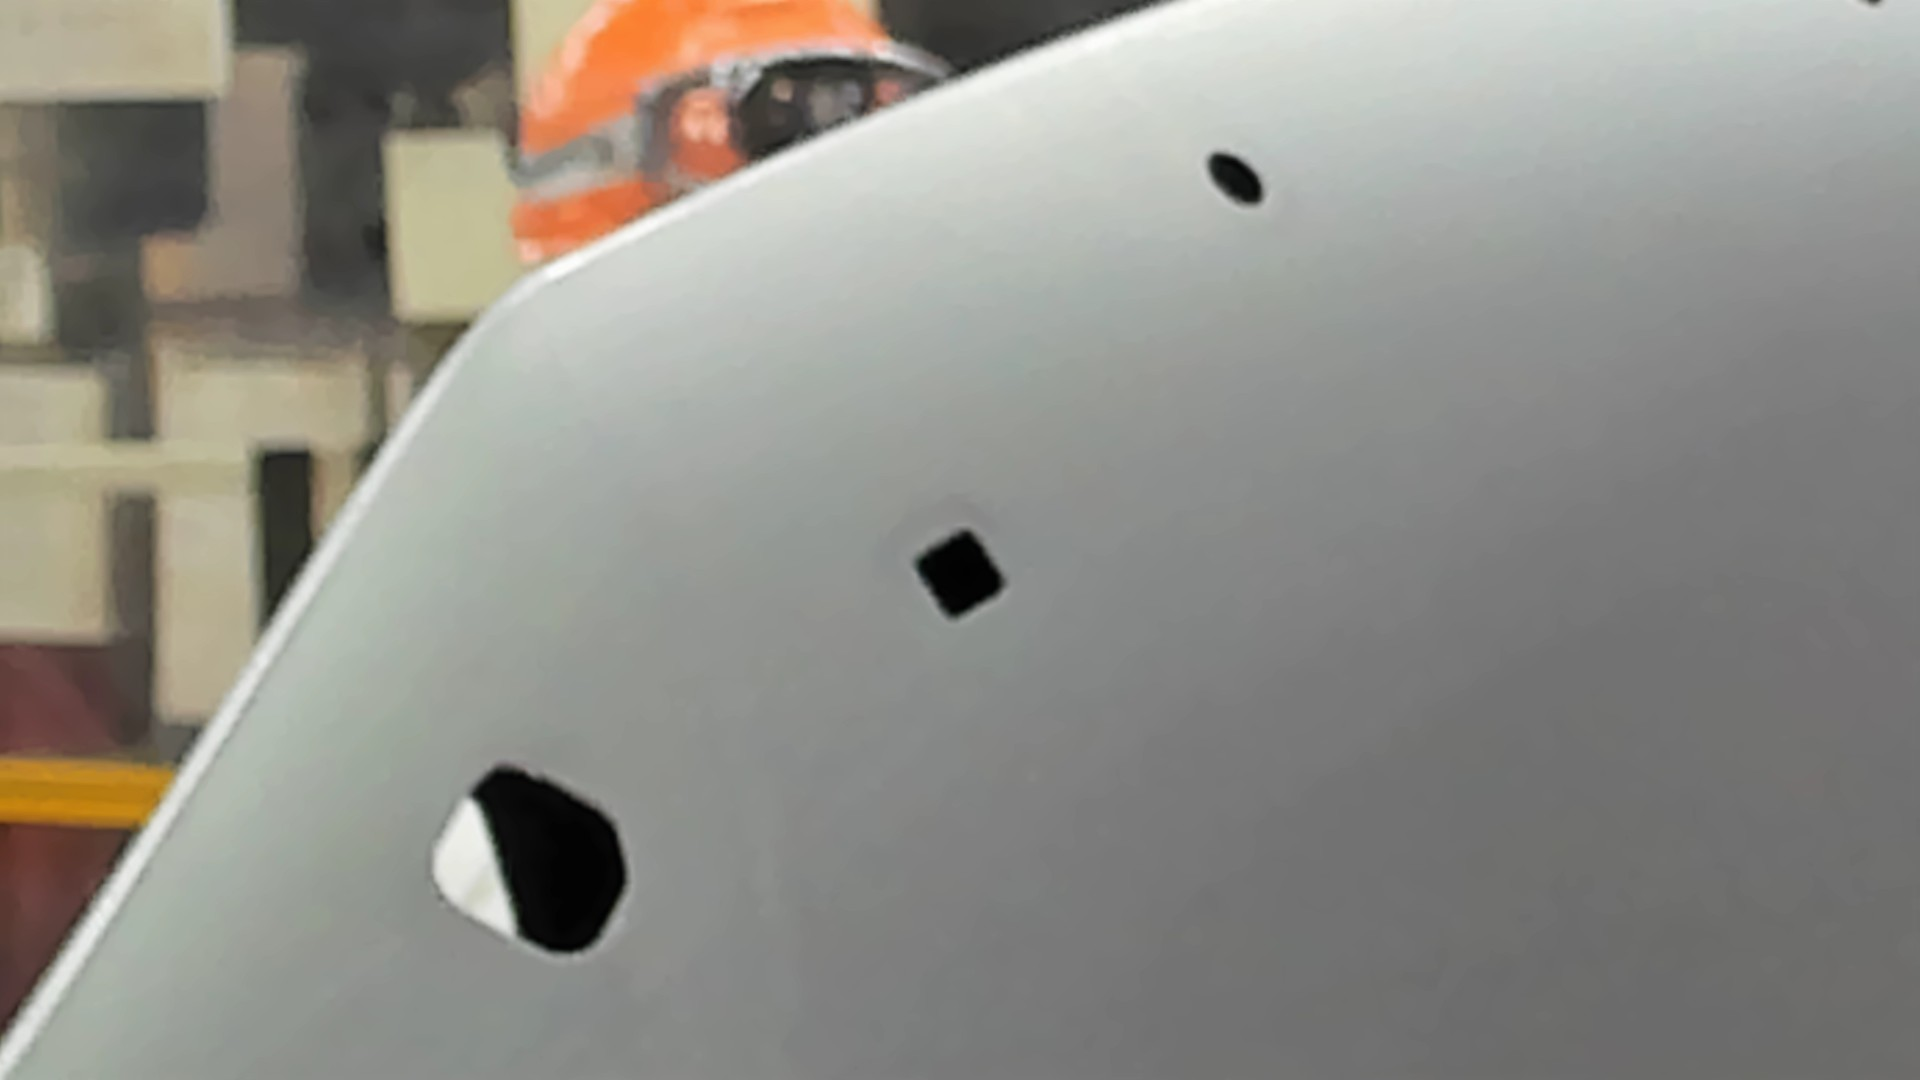chico: (1201, 145, 1270, 214)
grande: (419, 758, 636, 967)
mediano: (905, 520, 1013, 626)
